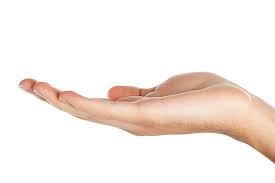palm: (140, 76, 215, 108)
